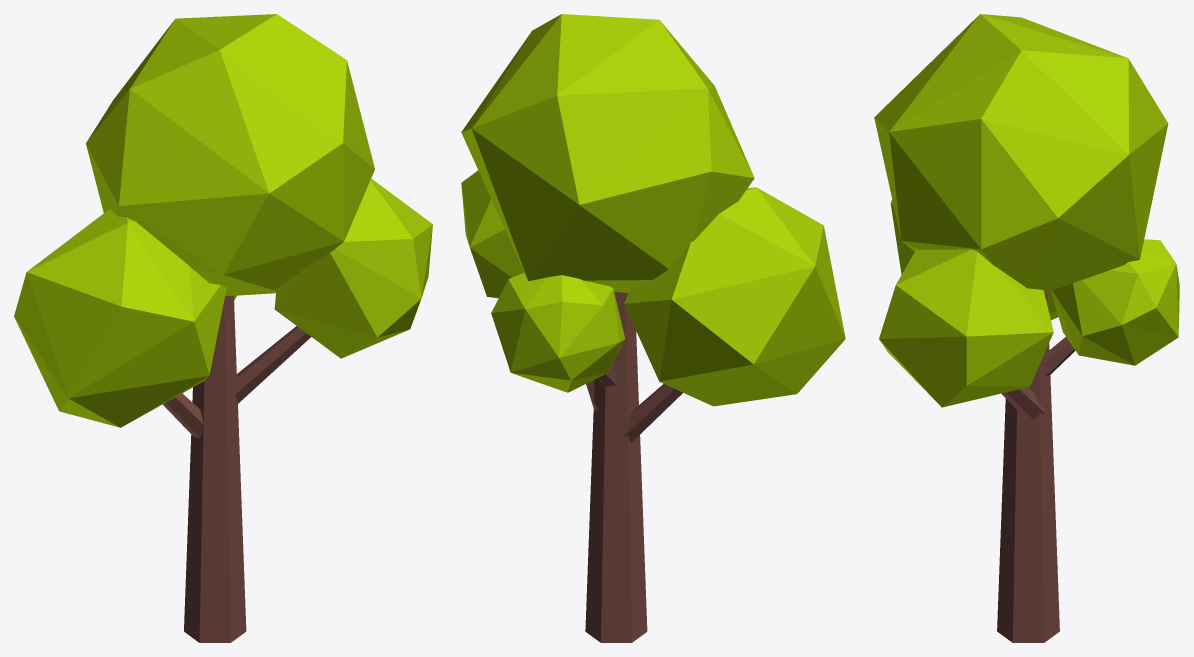
Rendered from LargeTreeScaled 1.fbx.
3 renders of one model, left to right at view 1: azimuth 30°, elevation 25°; view 2: azimuth 150°, elevation 25°; view 3: azimuth 270°, elevation 25°, orthographic.
Visible parts, largest first — view 1: Icosphere.002, Icosphere.001, Cylinder.001, Icosphere; view 2: Icosphere.002, Icosphere.001, Cylinder.001, Icosphere.003, Icosphere; view 3: Icosphere.002, Icosphere, Cylinder.001, Icosphere.003, Icosphere.001.
Part boxes in pixels (x1,y1,x2,y2): Icosphere.002: (86,14,374,296); Icosphere.001: (14,209,226,427); Cylinder.001: (163,295,310,642); Icosphere: (274,178,432,358); Icosphere.002: (461,14,754,293); Icosphere.001: (624,187,845,406); Cylinder.001: (585,291,682,642); Icosphere.003: (491,272,625,392); Icosphere: (461,170,524,298); Icosphere.002: (874,14,1168,292); Icosphere: (879,249,1053,407); Cylinder.001: (997,292,1075,642); Icosphere.003: (1051,239,1179,365); Icosphere.001: (890,199,1058,320).
Size of the model in its own units: 953 by 1446 by 657.
